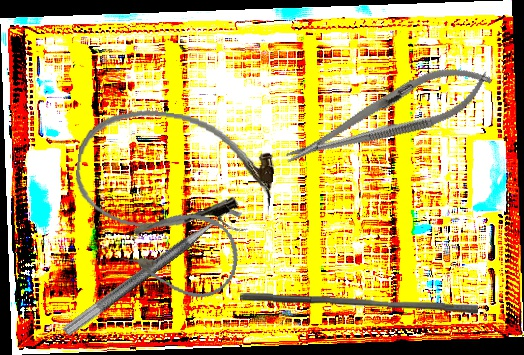Cannula: (70, 102, 280, 242), (114, 199, 246, 306)
Fixation Ring: (61, 201, 252, 352)
Needle Holder: (274, 49, 502, 183)
Pusher: (239, 291, 479, 315)
